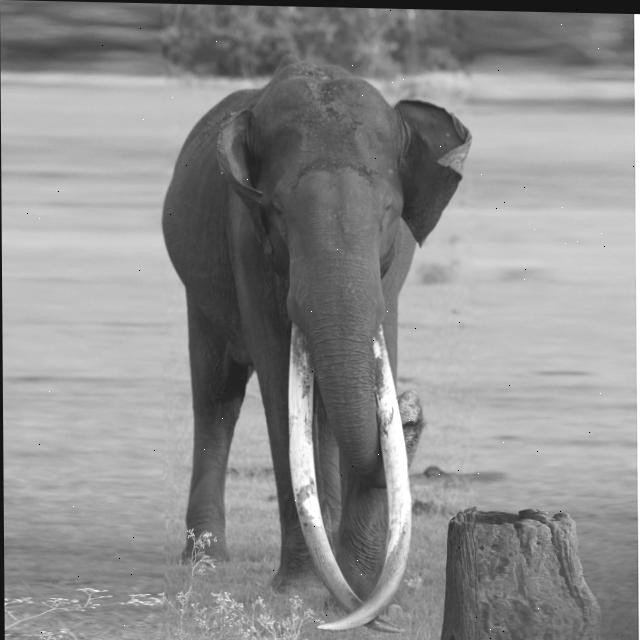Elephant: (160, 50, 476, 635)
